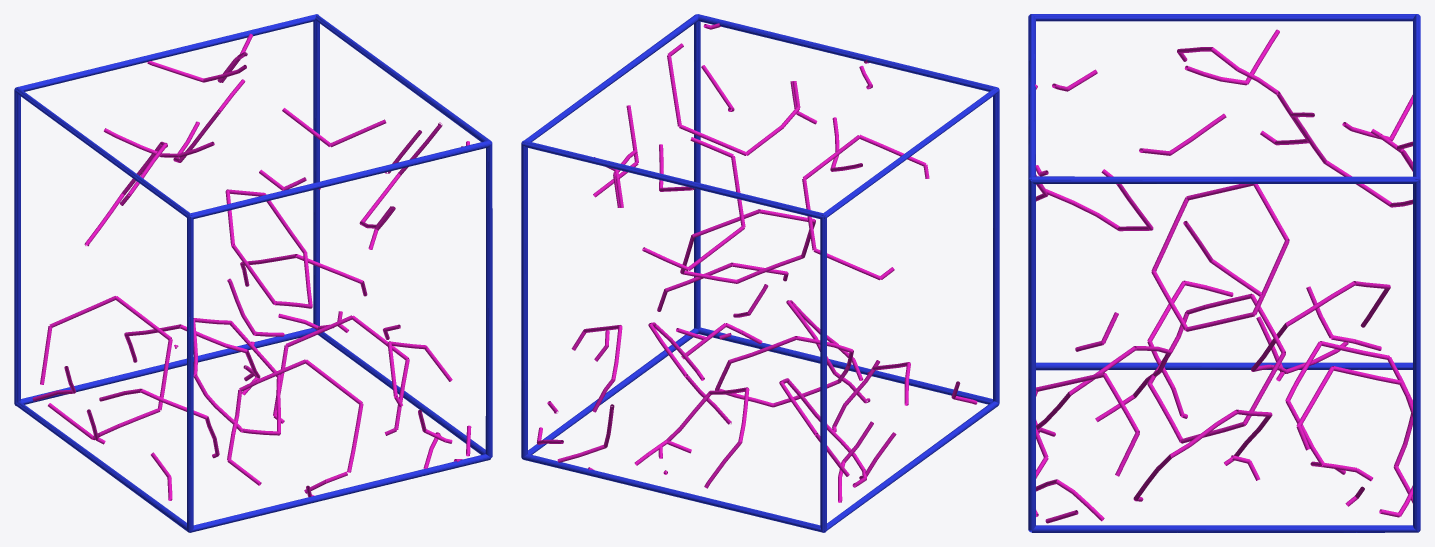
Rendered from dislocation100.glb.
3 views of the same model, side by side, from view 1: azimuth 30°, elevation 25°; view 2: azimuth 150°, elevation 25°; view 3: azimuth 270°, elevation 25° (orthographic). The views are drawn at different scales.
Parts seen in each view (by area): view 1: Shape_IndexedLineSet, Shape_IndexedLineSet.001; view 2: Shape_IndexedLineSet, Shape_IndexedLineSet.001; view 3: Shape_IndexedLineSet.001, Shape_IndexedLineSet.
Part boxes in pixels (<box>): Shape_IndexedLineSet: <box>14,14,492,532</box>; Shape_IndexedLineSet.001: <box>32,33,471,500</box>; Shape_IndexedLineSet: <box>521,14,999,532</box>; Shape_IndexedLineSet.001: <box>536,23,977,502</box>; Shape_IndexedLineSet.001: <box>1035,29,1413,523</box>; Shape_IndexedLineSet: <box>1028,14,1420,532</box>.
Size of the model in its own units: 1.02 by 1.02 by 1.02.
